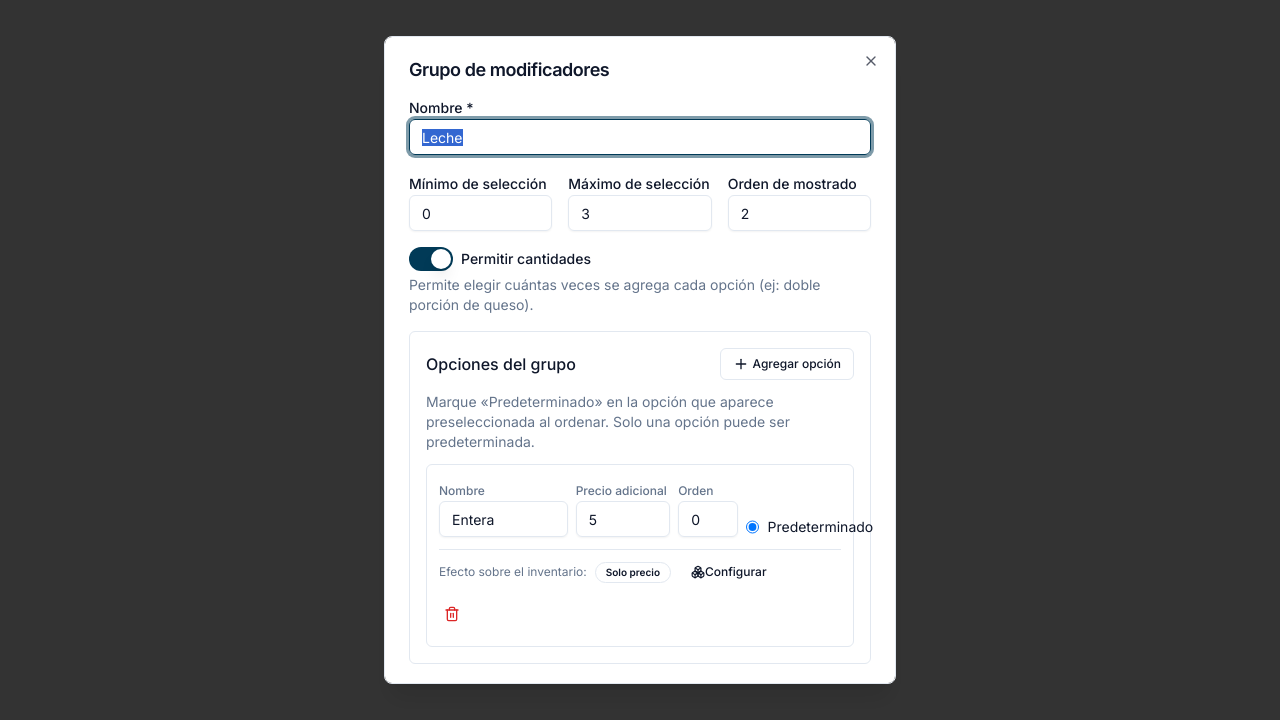
Test: the inventory effect of a modifier option (R28) › opens the effect editor and offers the five effects
Click the button with aria-label "efecto de inventario de la opción". click: point(729, 572)
box: [679,558,779,586]
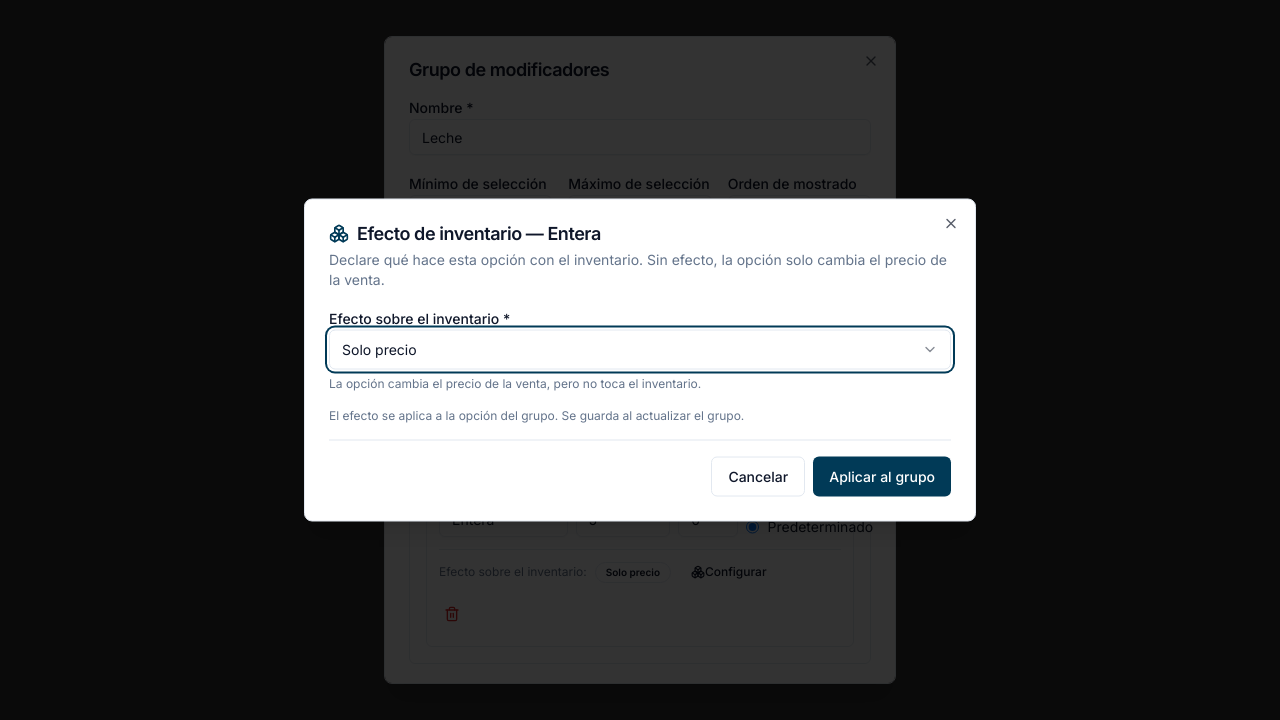
Check: the dropdown with test id "modifier-effect-select" is shown
Click the dropdown with test id "modifier-effect-select". click: point(379, 349)
box: [329,330,951,370]
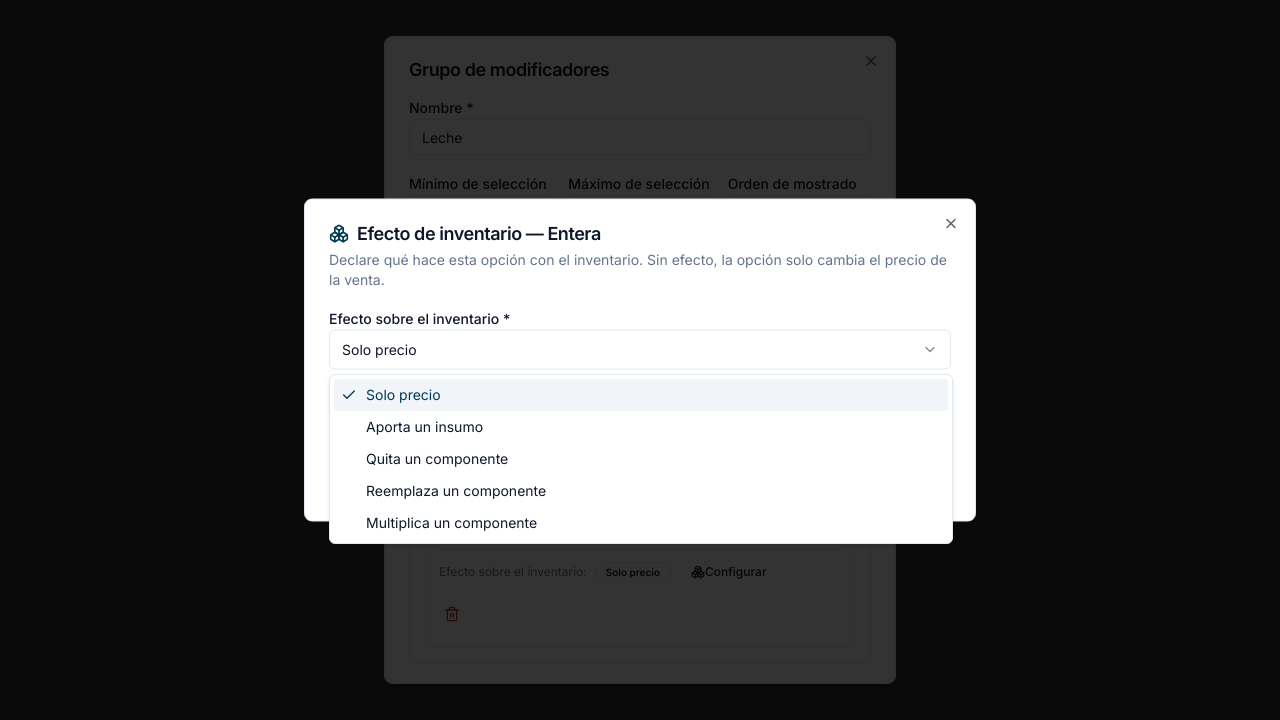
Check: the option "Solo precio" is shown, box [334,379,948,411]
Check: the option "Aporta un insumo" is shown, box [366,418,483,435]
Check: the option "Quita un componente" is shown, box [366,450,508,467]
